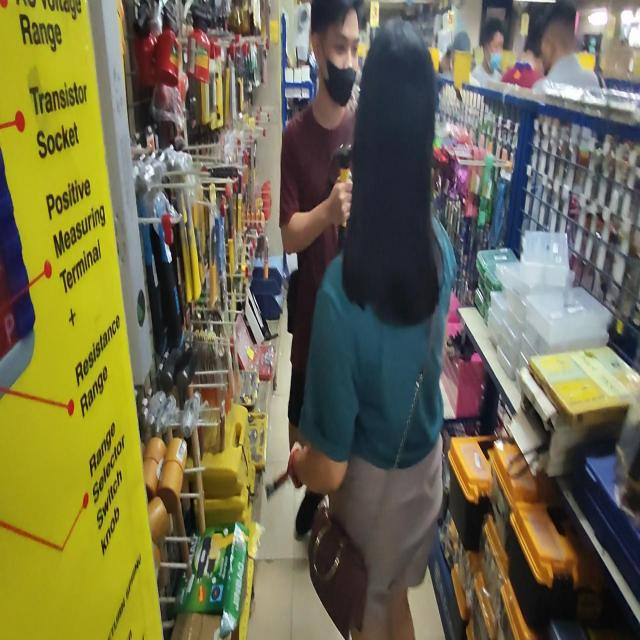hammer: (329, 141, 354, 254)
